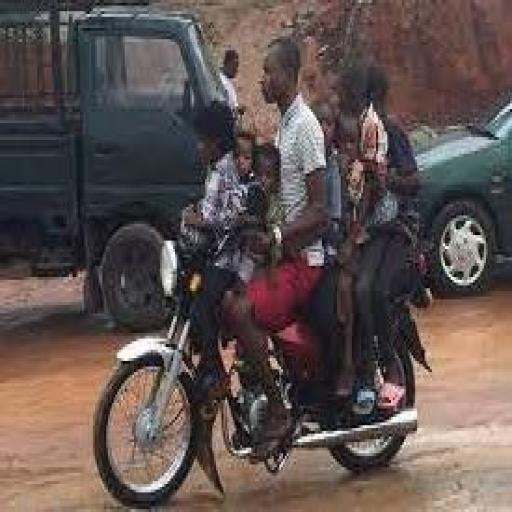no helmet: (252, 46, 327, 161)
triple riding: (78, 34, 471, 496)
